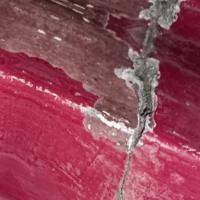crack: (102, 12, 161, 199)
